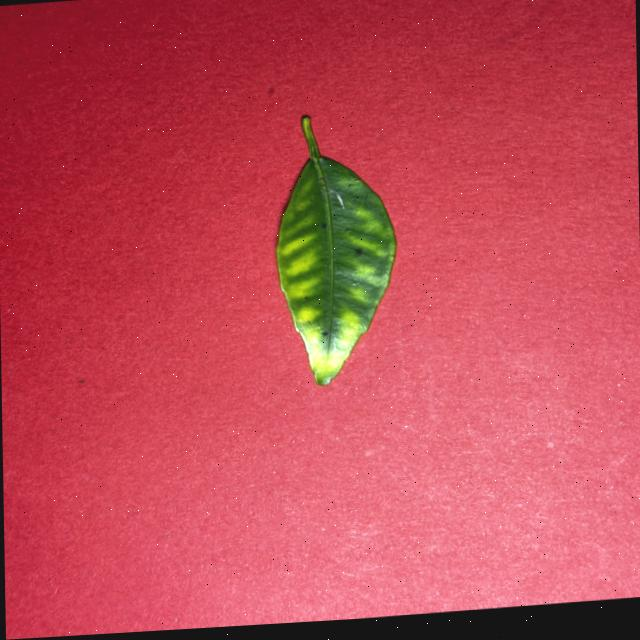greening: (276, 116, 396, 384)
